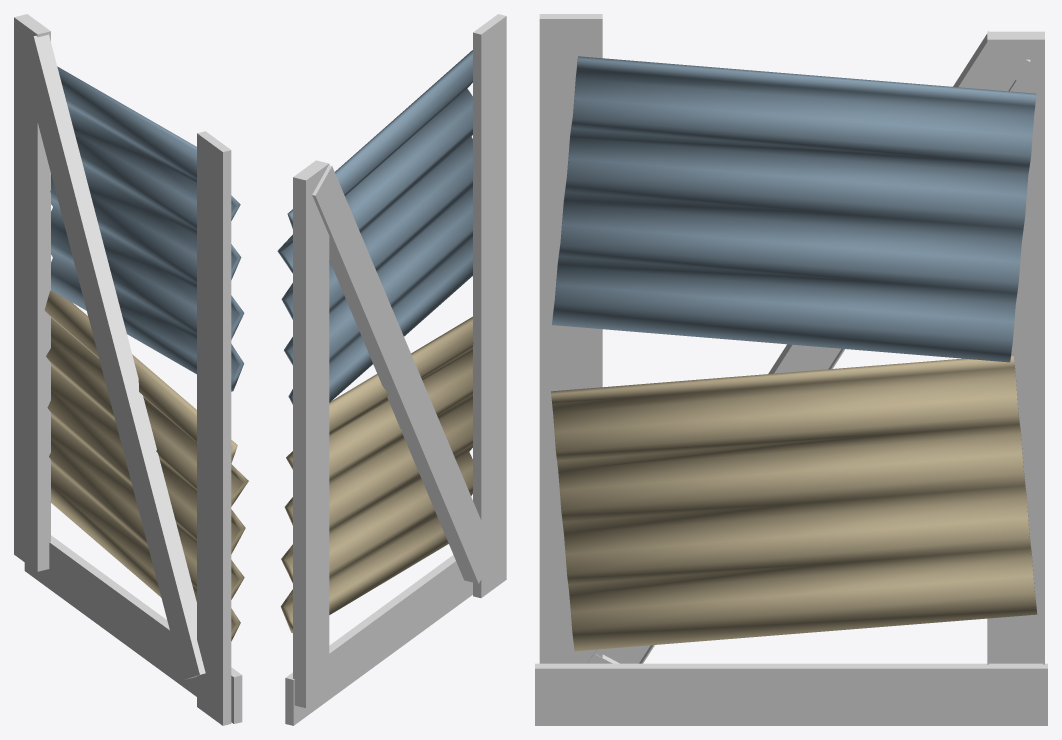
The model's file is ScrapyardFenceP3.fbx.
3 views of the same model, side by side, from view 1: azimuth 30°, elevation 25°; view 2: azimuth 150°, elevation 25°; view 3: azimuth 270°, elevation 25° (orthographic). The views are drawn at different scales.
Visible parts, largest first — view 1: FenceP5.001, FenceP5.002, FenceP1.001, FenceP2.001, FenceP4.001, FenceP3.001; view 2: FenceP5.001, FenceP5.002, FenceP4.001, FenceP2.001, FenceP1.001, FenceP3.001; view 3: FenceP5.001, FenceP5.002, FenceP3.001, FenceP2.001, FenceP4.001, FenceP1.001.
Boxes of the visible parts, <box> form: FenceP5.001: <box>50,66,244,391</box>; FenceP5.002: <box>44,290,248,641</box>; FenceP1.001: <box>17,34,205,679</box>; FenceP2.001: <box>197,131,231,725</box>; FenceP4.001: <box>14,14,50,571</box>; FenceP3.001: <box>24,535,242,723</box>; FenceP5.001: <box>277,50,473,404</box>; FenceP5.002: <box>280,316,473,632</box>; FenceP4.001: <box>293,160,329,708</box>; FenceP2.001: <box>473,14,506,597</box>; FenceP1.001: <box>312,165,495,583</box>; FenceP3.001: <box>285,555,472,725</box>; FenceP5.001: <box>552,56,1036,362</box>; FenceP5.002: <box>551,354,1037,651</box>; FenceP3.001: <box>535,663,1047,725</box>; FenceP2.001: <box>539,14,602,663</box>; FenceP4.001: <box>987,31,1044,664</box>; FenceP1.001: <box>587,31,1030,663</box>.
Size of the model in its own units: 14.18 by 200 by 132.
